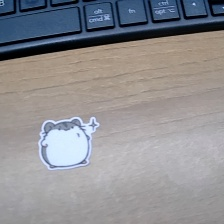mouse: (37, 114, 102, 171)
